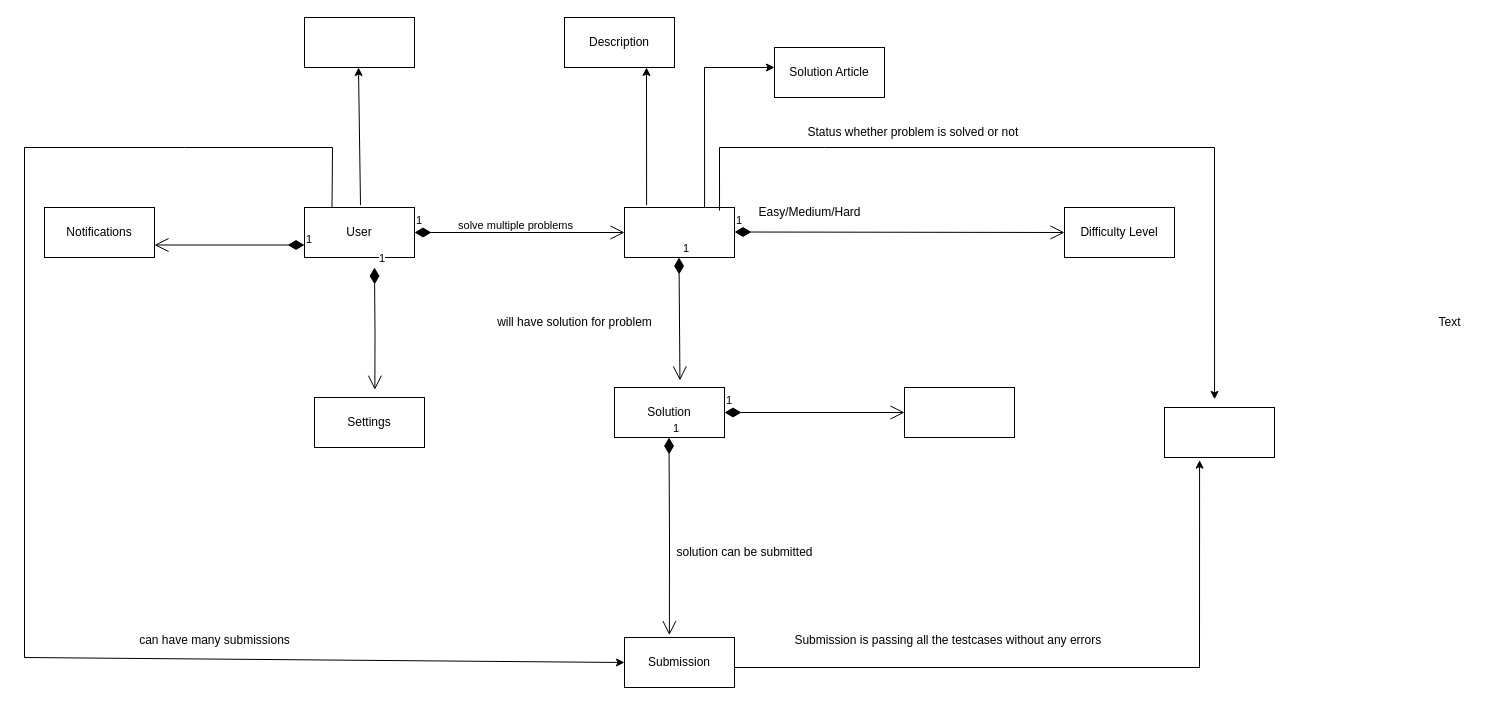
This 1492x705 diagram has some shape labels left out. Each missing label, with the box of its shape:
Language: (904, 386, 1014, 438)
Problems: (624, 206, 734, 258)
Profile: (304, 16, 414, 68)
Status: (1164, 406, 1274, 458)
